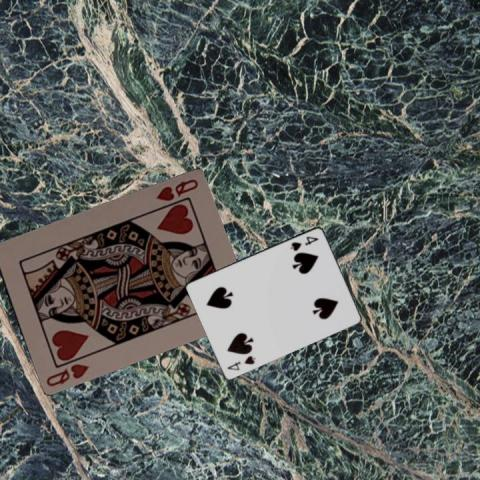4s: (287, 233, 320, 252), (224, 352, 257, 371)
Qh: (43, 360, 90, 388), (154, 176, 200, 203)
